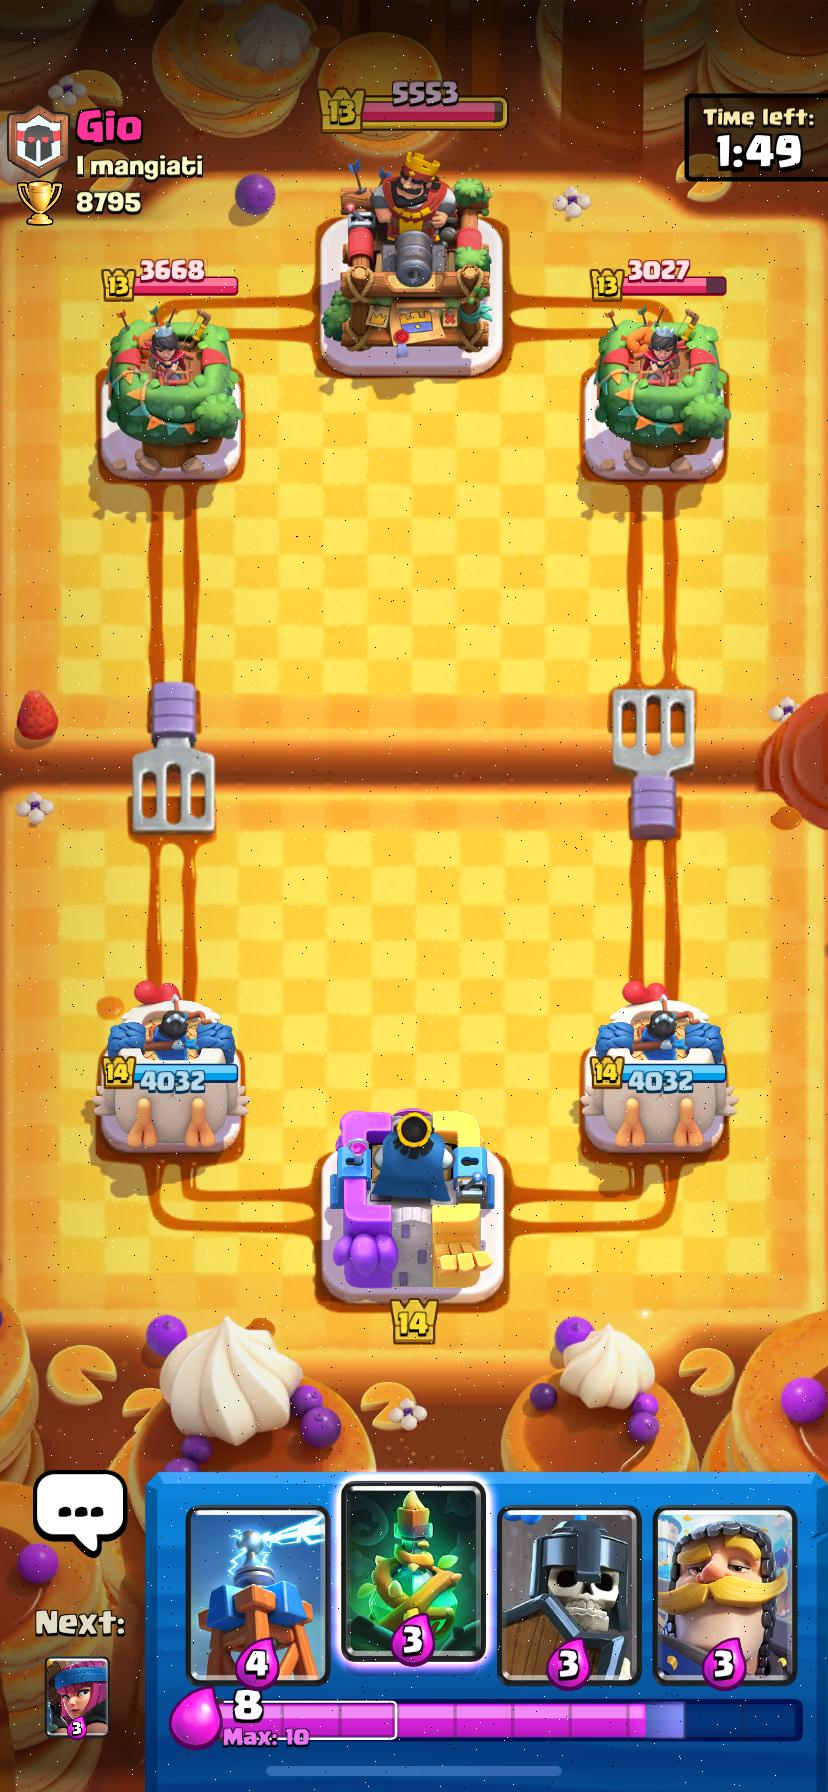EKingTower: (321, 151, 501, 374)
EnemyPrincessTower: (102, 304, 242, 479), (594, 309, 729, 478)
OwnKingTower: (321, 1109, 503, 1303)
OwnPrincessTower: (580, 982, 737, 1153), (93, 983, 248, 1152)
